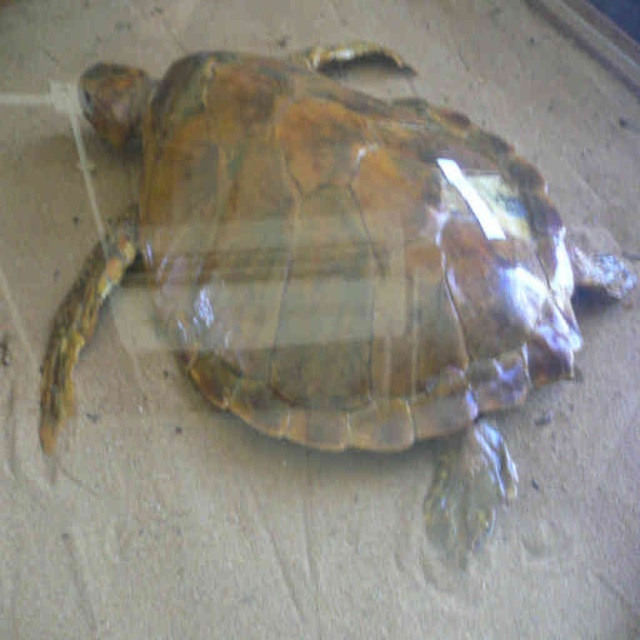Sea turtle: (40, 37, 639, 560)
